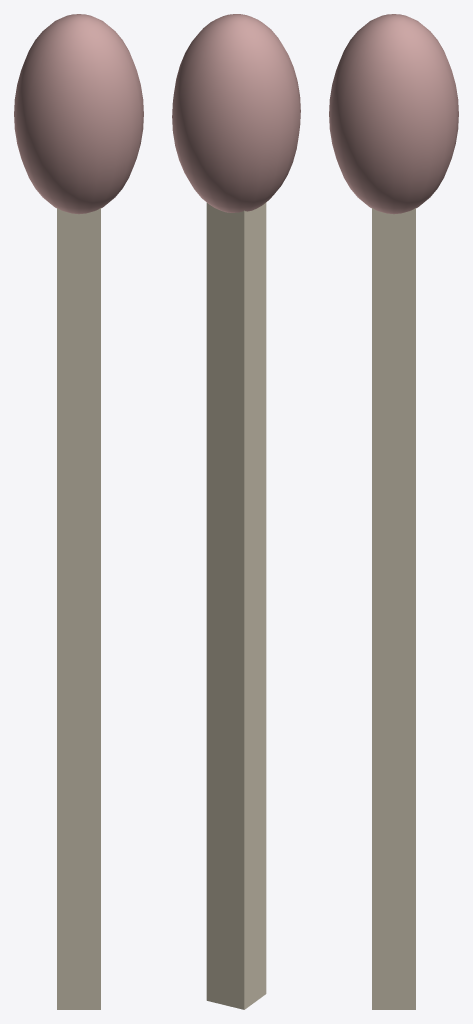
File: Complete_Match.fbx
3 views of the same model, side by side, from view 1: azimuth 90°, elevation 25°; view 2: azimuth 150°, elevation 25°; view 3: azimuth 270°, elevation 25° (orthographic).
Visible parts, largest first — view 1: pCube1, pSphere1; view 2: pCube1, pSphere1; view 3: pCube1, pSphere1.
Part boxes in pixels (<box>): pCube1: <box>57,208,100,1009</box>; pSphere1: <box>14,14,143,214</box>; pCube1: <box>206,202,266,1009</box>; pSphere1: <box>172,14,300,212</box>; pCube1: <box>372,208,415,1009</box>; pSphere1: <box>329,14,458,214</box>.
Bounding box in the file's own units: 2.97 × 24.81 × 2.97.
